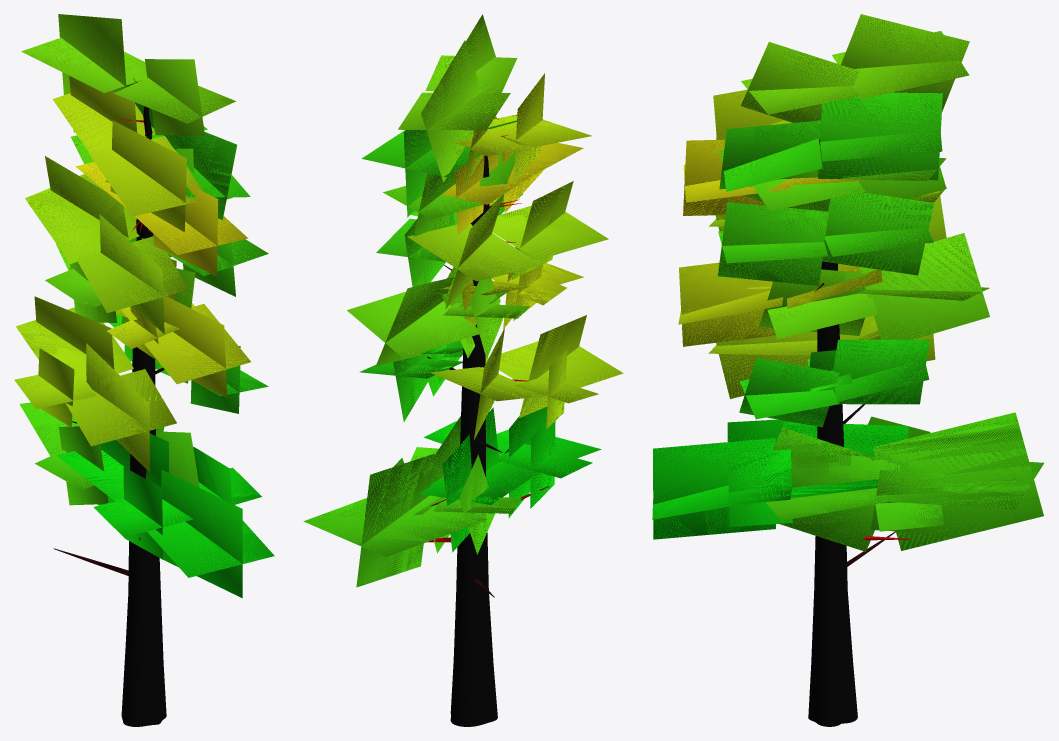
File: Type_4_Tree_2.fbx
The picture shows the model from 3 angles, left to right: view 1: azimuth 30°, elevation 25°; view 2: azimuth 150°, elevation 25°; view 3: azimuth 270°, elevation 25°; orthographic projection.
Parts seen in each view (by area): view 1: Leaf, Trunk; view 2: Leaf, Trunk; view 3: Leaf, Trunk.
Boxes of the visible parts, x1=… form: Leaf: x1=14, y1=14, x2=274, y2=598; Trunk: x1=53, y1=78, x2=166, y2=726; Leaf: x1=303, y1=14, x2=623, y2=587; Trunk: x1=427, y1=118, x2=549, y2=726; Leaf: x1=652, y1=14, x2=1043, y2=551; Trunk: x1=808, y1=139, x2=909, y2=726.
Bounding box in the file's own units: 1206 × 3859 × 1962.
